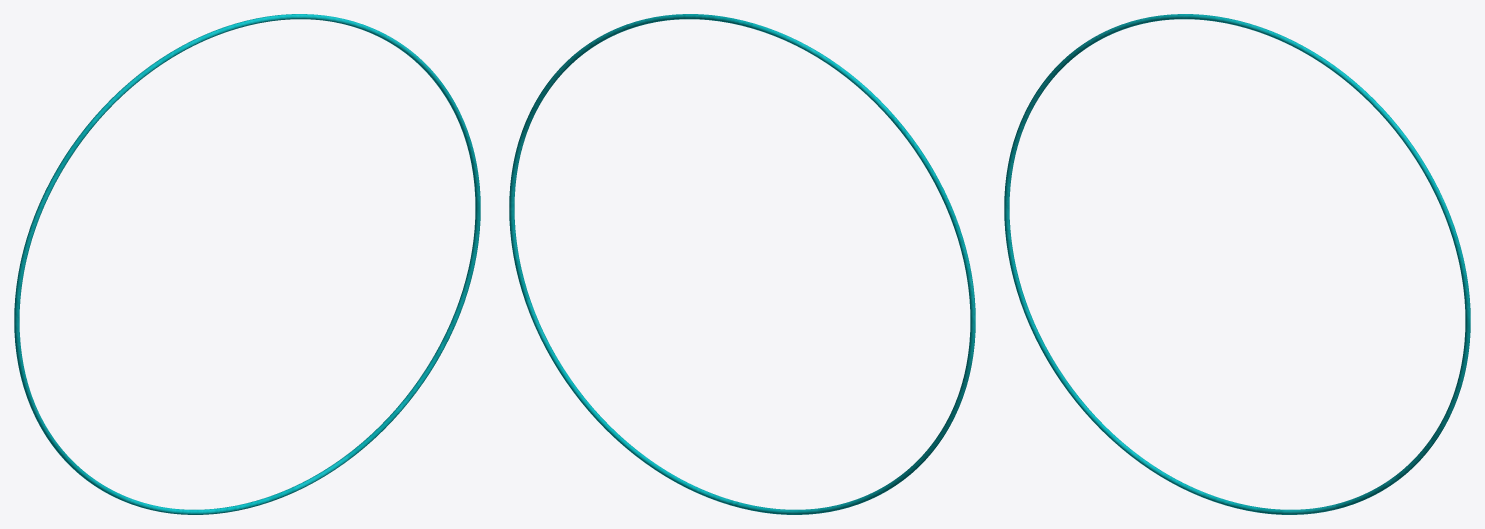
The model's file is LRing_Turquoise.glb.
3 renders of one model, left to right at view 1: azimuth 30°, elevation 25°; view 2: azimuth 150°, elevation 25°; view 3: azimuth 330°, elevation 25°, orthographic.
Parts seen in each view (by area): view 1: RingS.obj; view 2: RingS.obj; view 3: RingS.obj.
Part boxes in pixels (x1,y1,x2,y2): RingS.obj: (14, 14, 480, 514); RingS.obj: (509, 14, 975, 514); RingS.obj: (1004, 14, 1470, 514).
Size of the model in its own units: 7.95 by 7.95 by 0.0761.
Materials: 1 (1 with a texture image).
